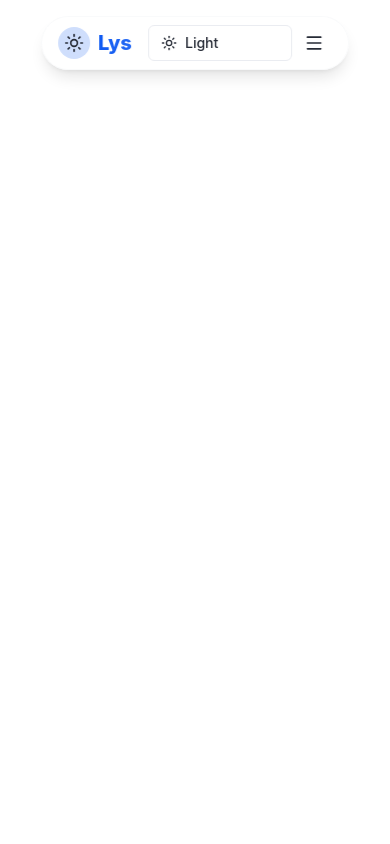
Test: mobile menu scroll lock › unlocks on Escape
Step 1. Click the button named "toggle menu" → (314, 43), box left=296, top=25, right=332, bottom=61
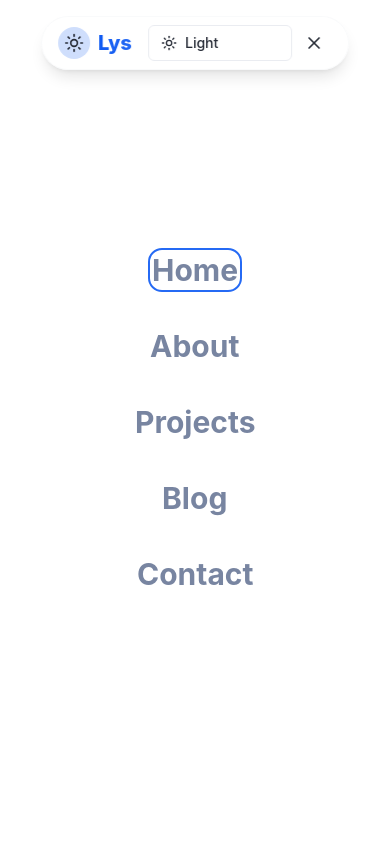
Step 2. Press Escape
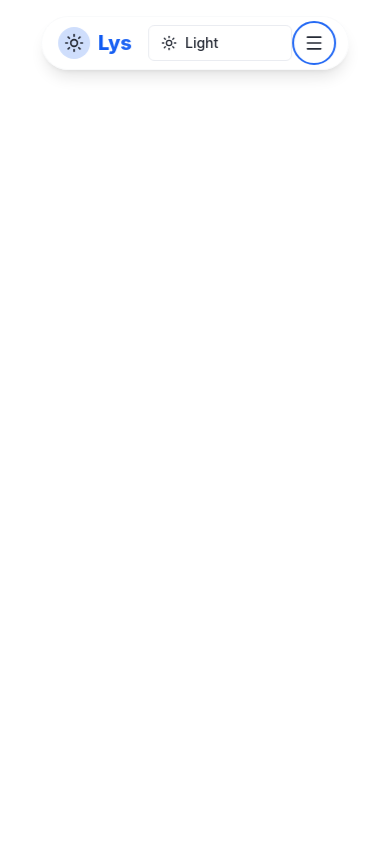
expect the button named "toggle menu" is collapsed: met, box left=296, top=25, right=332, bottom=61
